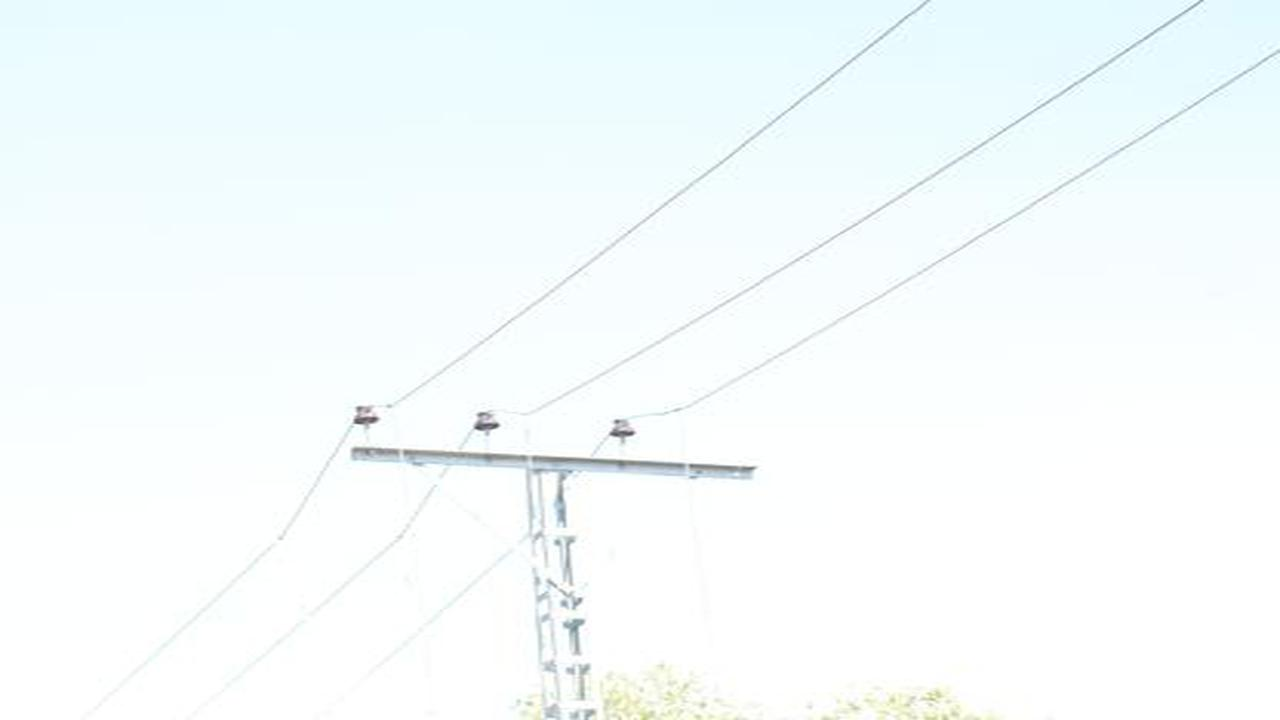insulator_pin: (605, 415, 645, 445), (471, 406, 506, 437), (350, 399, 383, 429)
